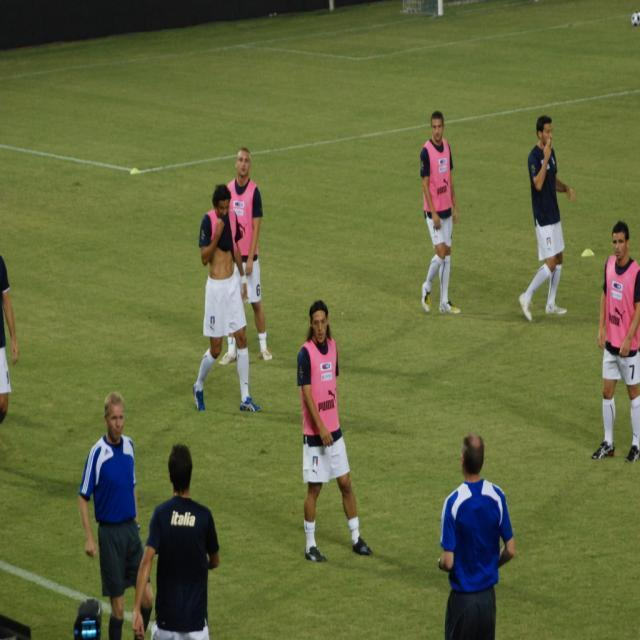ball: (632, 12, 640, 27)
